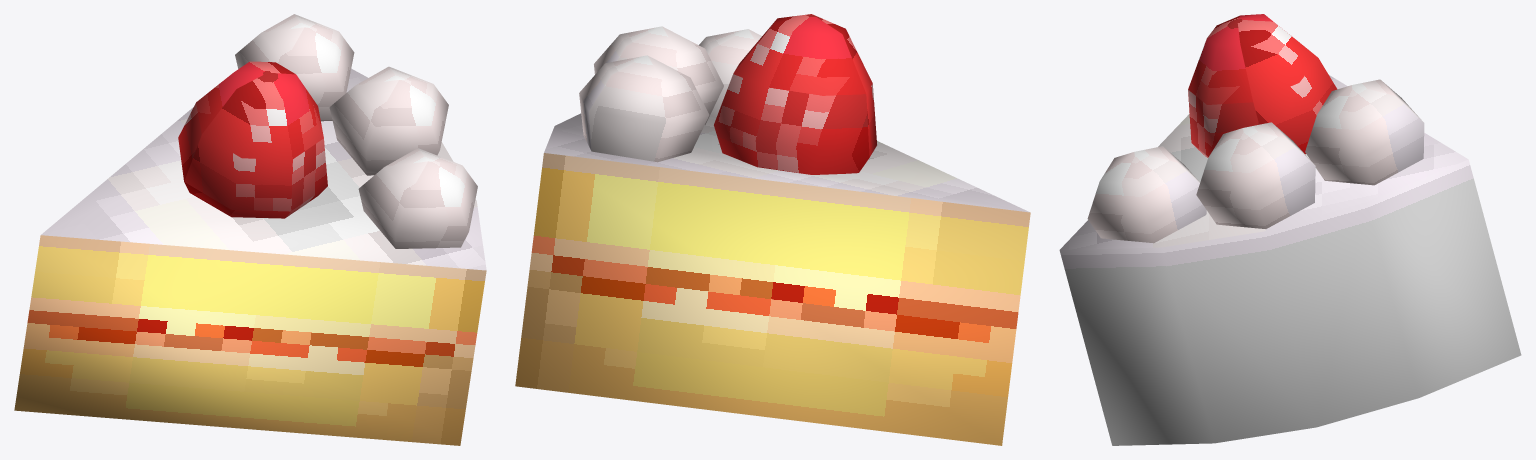
Rendered from xac_cake.glb.
The picture shows the model from 3 angles, left to right: view 1: azimuth 30°, elevation 25°; view 2: azimuth 150°, elevation 25°; view 3: azimuth 270°, elevation 25°; orthographic projection. The views are drawn at different scales.
Parts seen in each view (by area): view 1: VisualMaterial0; view 2: VisualMaterial0; view 3: VisualMaterial0.
Part boxes in pixels (bbox=[...]): VisualMaterial0: bbox=[14, 14, 486, 445]; VisualMaterial0: bbox=[515, 14, 1030, 445]; VisualMaterial0: bbox=[1059, 14, 1521, 445].
Bounding box in the file's own units: 12.97 × 11.02 × 12.75.
Materials: 1 (1 with a texture image).
